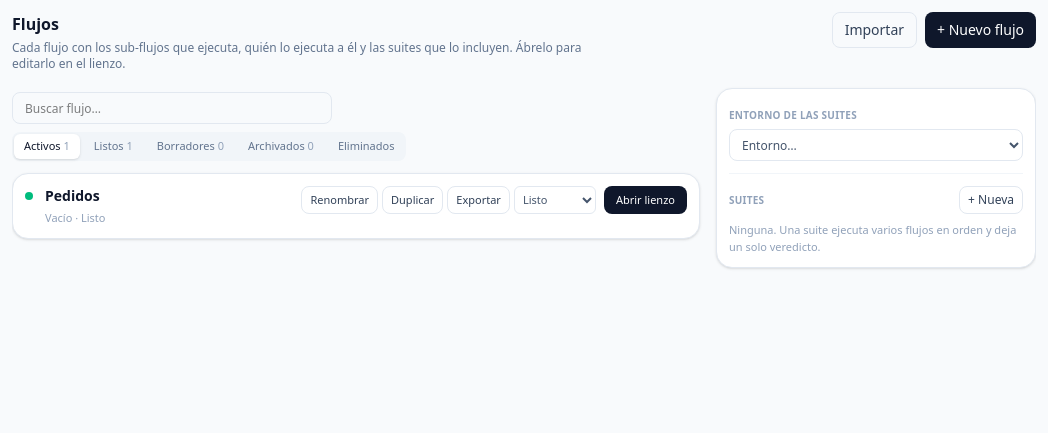
la papelera de los flujos › un conjunto sin columnas lo dice en la papelera
Expected: the text "Pedidos" is shown, [45,186,100,204]
Click the button "Eliminados" at {"x": 366, "y": 146}, box [328,134,404,158]
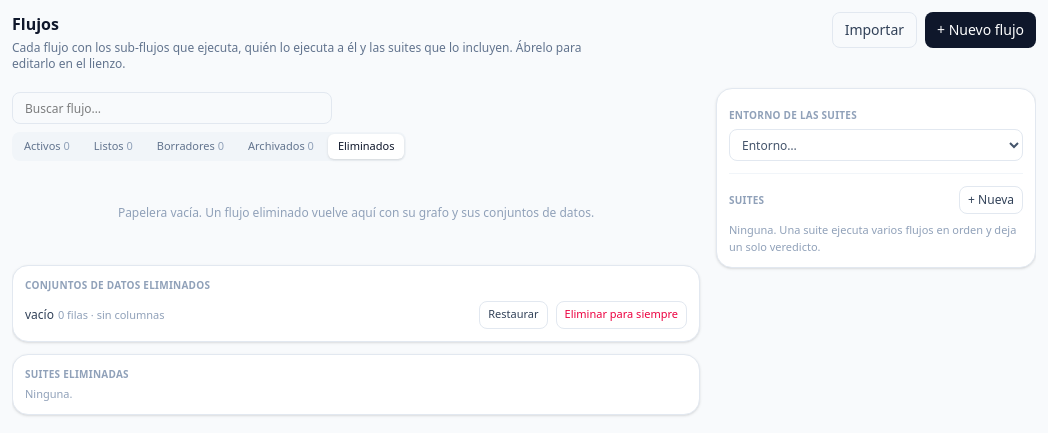
Expected: the text "0 filas · sin columnas" is shown, [58,306,165,322]
